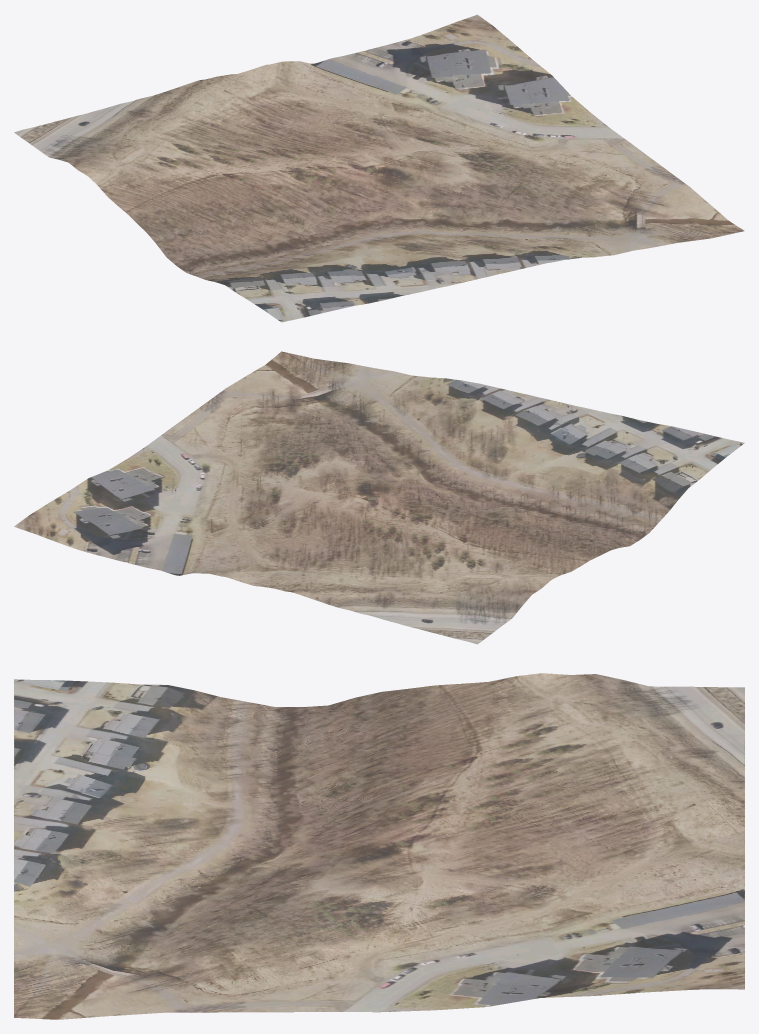
File: CM_Terrain_24492506_6817746.fbx
The picture shows the model from 3 angles, top to bottom: view 1: azimuth 30°, elevation 25°; view 2: azimuth 150°, elevation 25°; view 3: azimuth 270°, elevation 25°; orthographic projection. The views are drawn at different scales.
Parts seen in each view (by area): view 1: CM_Terrain_24492506_6817746_LOD0; view 2: CM_Terrain_24492506_6817746_LOD0; view 3: CM_Terrain_24492506_6817746_LOD0.
Boxes of the visible parts, left/top/right/bottom form: CM_Terrain_24492506_6817746_LOD0: left=14, top=14, right=744, bottom=322; CM_Terrain_24492506_6817746_LOD0: left=14, top=351, right=744, bottom=644; CM_Terrain_24492506_6817746_LOD0: left=14, top=673, right=744, bottom=1019.
Size of what is drawn, in the model's own units: 205 by 12.01 by 205.
